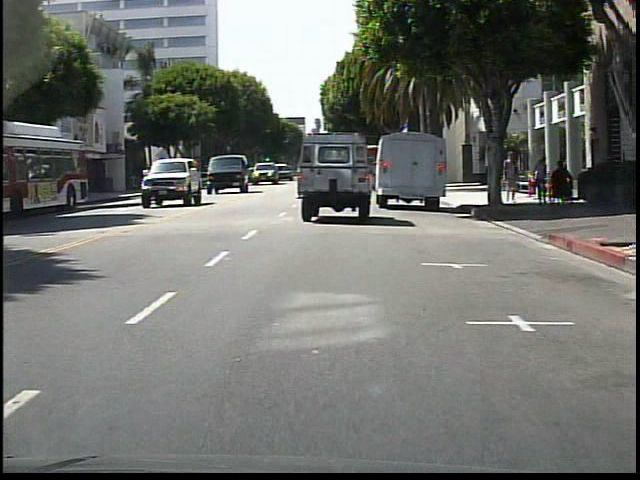person: (501, 151, 519, 204), (532, 157, 548, 203)
